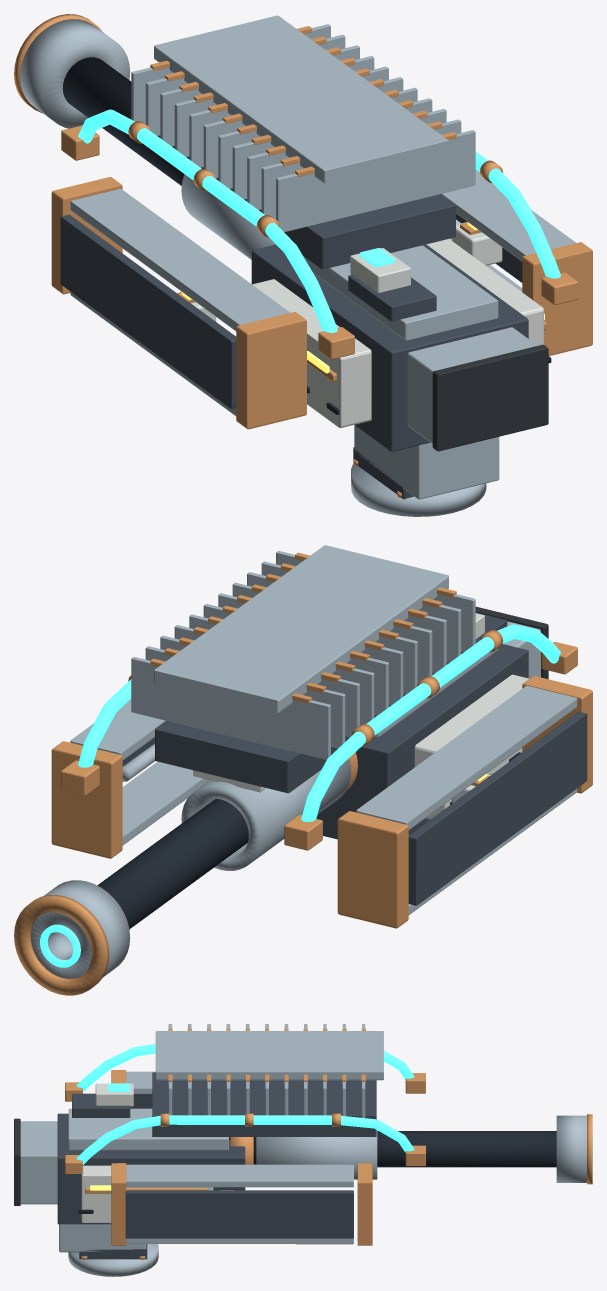
The model's file is M01-008_liquid_cooled_rifle_animated.fbx.
The picture shows the model from 3 angles, top to bottom: view 1: azimuth 30°, elevation 25°; view 2: azimuth 150°, elevation 25°; view 3: azimuth 270°, elevation 25°; orthographic projection. The views are drawn at different scales.
Visible parts, largest first — view 1: M01_008_Radiator_Upper_Rail, M01_008_Pump_Guide_Outer_L, M01_008_Receiver, M01_008_Pump_Guide_Upper_L, M01_008_Rear_Grip_Cap, M01_008_Radiator_Fin_00, M01_008_Pump_Rear_Anchor_L, M01_008_Radiator_Lower_Manifold, M01_008_Receiver_Spine, M01_008_Muzzle_Brake, M01_008_Lower_Pedestal, M01_008_Ceramic_Cheek_L (+29 smaller); view 2: M01_008_Radiator_Upper_Rail, M01_008_Pump_Guide_Outer_L, M01_008_Pump_Guide_Upper_L, M01_008_Receiver, M01_008_Radiator_Fin_10, M01_008_Hollow_Rifle_Barrel, M01_008_Pump_Front_Anchor_L, M01_008_Radiator_Lower_Manifold, M01_008_Pump_Front_Anchor_R, M01_008_Barrel_Heat_Shroud, M01_008_Muzzle_Brake, M01_008_Coolant_Tube_L (+25 smaller); view 3: M01_008_Pump_Guide_Outer_R, M01_008_Radiator_Upper_Rail, M01_008_Radiator_Lower_Manifold, M01_008_Hollow_Rifle_Barrel, M01_008_Pump_Guide_Upper_R, M01_008_Receiver, M01_008_Barrel_Heat_Shroud, M01_008_Receiver_Spine, M01_008_Coolant_Tube_R, M01_008_Rear_Breech, M01_008_Muzzle_Brake, M01_008_Lower_Pedestal (+16 smaller).
Boxes of the visible parts, <box> form: M01_008_Radiator_Upper_Rail: <box>154,15,448,183</box>; M01_008_Pump_Guide_Outer_L: <box>60,214,236,408</box>; M01_008_Receiver: <box>251,244,528,451</box>; M01_008_Pump_Guide_Upper_L: <box>70,189,290,331</box>; M01_008_Rear_Grip_Cap: <box>432,344,548,451</box>; M01_008_Radiator_Fin_00: <box>276,130,475,232</box>; M01_008_Pump_Rear_Anchor_L: <box>236,312,306,429</box>; M01_008_Radiator_Lower_Manifold: <box>157,135,455,269</box>; M01_008_Receiver_Spine: <box>303,245,498,340</box>; M01_008_Muzzle_Brake: <box>20,19,130,128</box>; M01_008_Lower_Pedestal: <box>354,425,499,499</box>; M01_008_Ceramic_Cheek_L: <box>252,279,371,428</box>; M01_008_Radiator_Upper_Rail: <box>154,545,448,713</box>; M01_008_Pump_Guide_Outer_L: <box>408,711,587,905</box>; M01_008_Pump_Guide_Upper_L: <box>356,685,577,829</box>; M01_008_Receiver: <box>316,644,528,839</box>; M01_008_Radiator_Fin_10: <box>131,657,330,759</box>; M01_008_Hollow_Rifle_Barrel: <box>97,798,248,929</box>; M01_008_Pump_Front_Anchor_L: <box>337,811,408,928</box>; M01_008_Radiator_Lower_Manifold: <box>155,662,449,793</box>; M01_008_Pump_Front_Anchor_R: <box>51,741,122,858</box>; M01_008_Barrel_Heat_Shroud: <box>181,758,351,870</box>; M01_008_Muzzle_Brake: <box>31,880,130,978</box>; M01_008_Coolant_Tube_L: <box>301,624,560,821</box>; M01_008_Pump_Guide_Outer_R: <box>125,1190,353,1238</box>; M01_008_Radiator_Upper_Rail: <box>155,1031,383,1080</box>; M01_008_Radiator_Lower_Manifold: <box>152,1072,376,1136</box>; M01_008_Hollow_Rifle_Barrel: <box>229,1131,556,1167</box>; M01_008_Pump_Guide_Upper_R: <box>126,1164,353,1187</box>; M01_008_Receiver: <box>57,1113,245,1224</box>; M01_008_Barrel_Heat_Shroud: <box>256,1130,377,1179</box>; M01_008_Receiver_Spine: <box>68,1108,228,1150</box>; M01_008_Coolant_Tube_R: <box>76,1115,414,1164</box>; M01_008_Rear_Breech: <box>20,1121,57,1204</box>; M01_008_Muzzle_Brake: <box>556,1115,586,1182</box>; M01_008_Lower_Pedestal: <box>59,1224,145,1252</box>.
Size of the model in its own units: 101 by 83.8 by 213.
